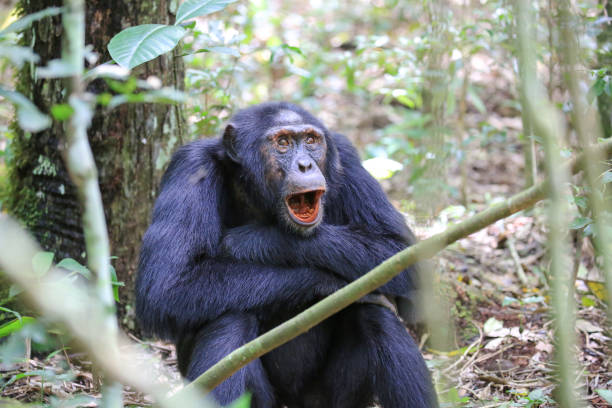chimpanzee: (213, 91, 349, 248)
